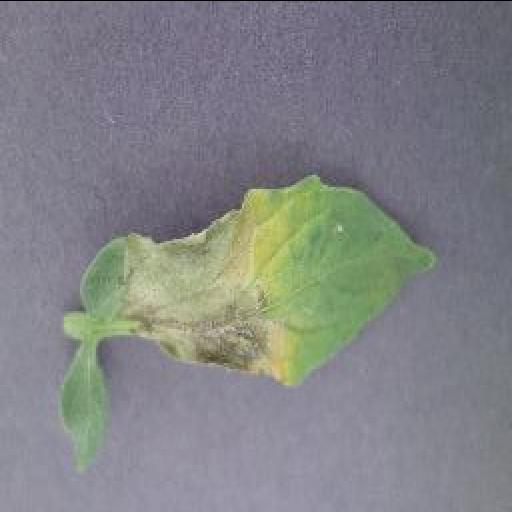disease_tomato: (56, 171, 444, 477)
